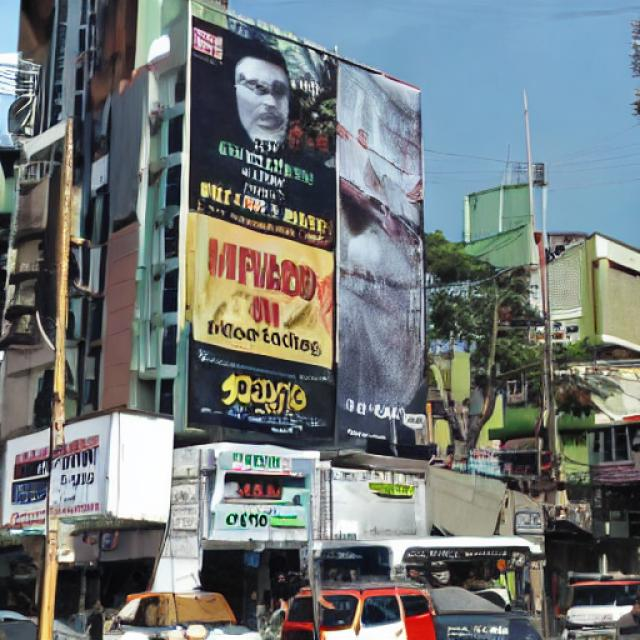Billboard: (188, 8, 422, 463)
